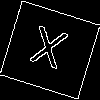X: (25, 24, 70, 79)
